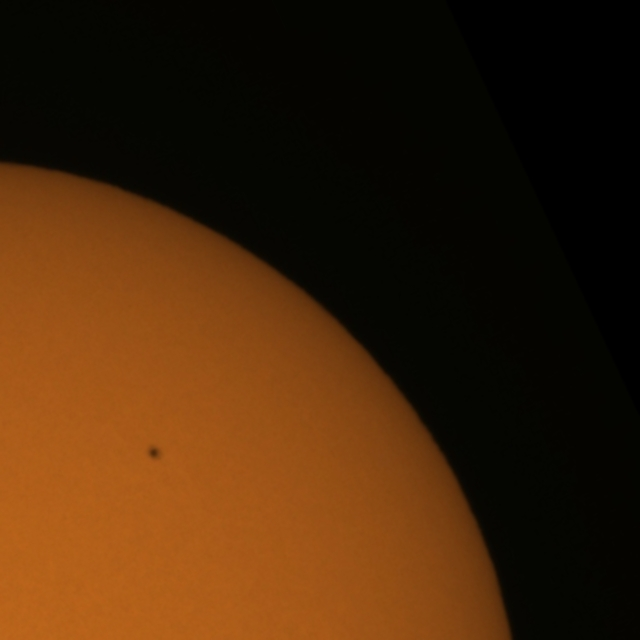sunspot: (145, 443, 164, 463)
